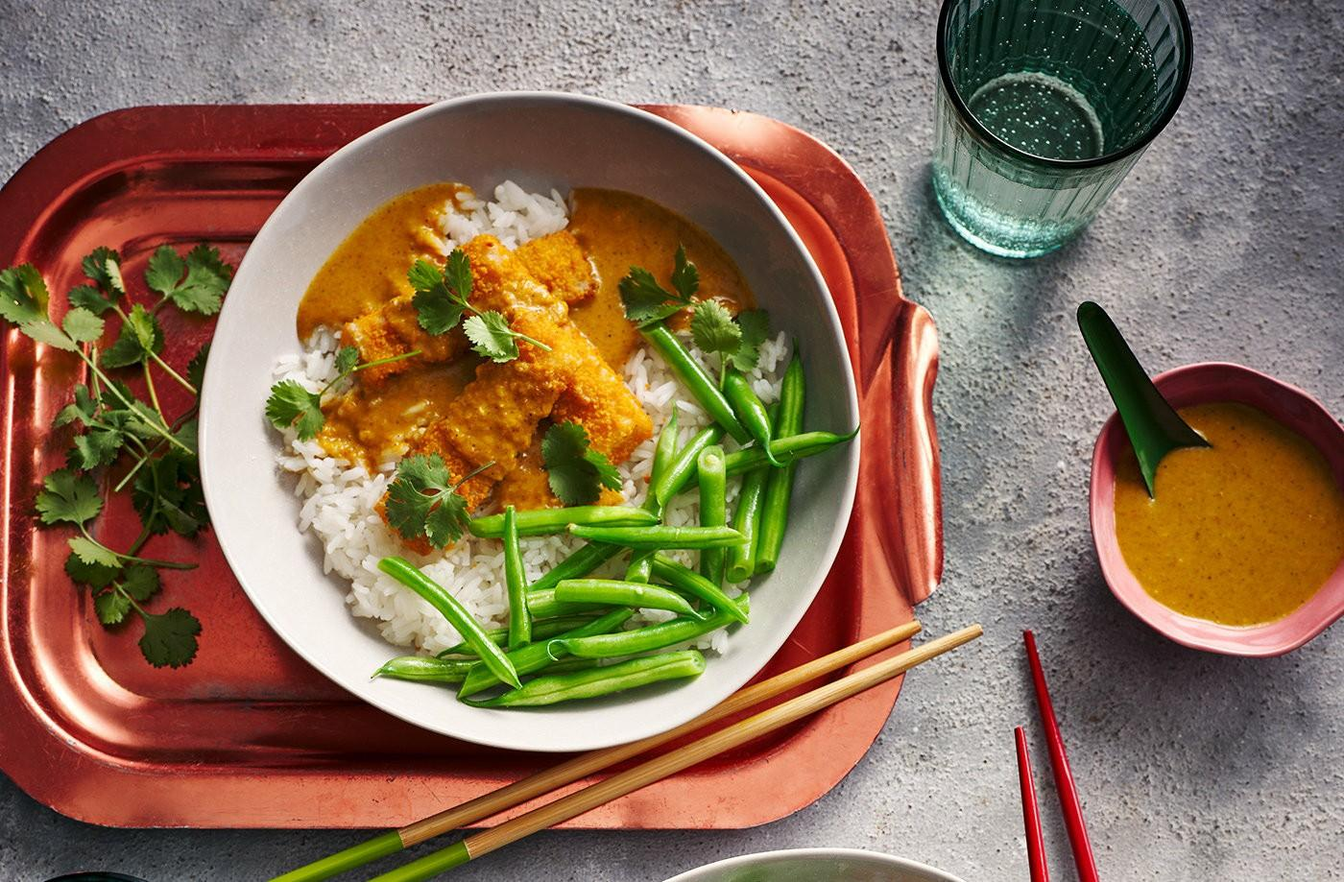FishCurry: (298, 176, 778, 487)
